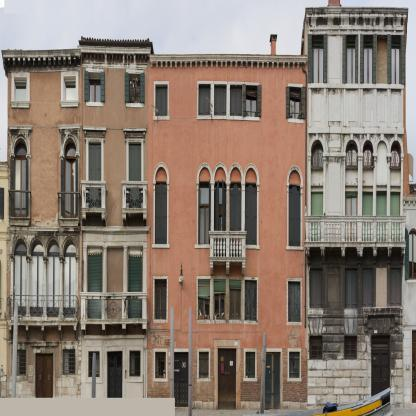Balcony: (304, 215, 407, 247), (80, 292, 148, 324), (9, 295, 79, 326), (208, 230, 247, 262), (121, 181, 148, 213), (8, 189, 32, 224), (57, 192, 81, 224)
Blind: (311, 192, 323, 242), (362, 191, 373, 241), (376, 191, 387, 241), (391, 192, 401, 242)
Building Outline: (1, 6, 408, 410)
Cornice: (362, 307, 401, 333), (8, 226, 81, 234), (80, 225, 150, 232), (82, 62, 148, 69), (83, 335, 145, 339), (9, 125, 33, 133), (58, 124, 81, 132), (30, 341, 58, 347), (83, 126, 107, 132), (9, 341, 30, 346), (123, 127, 147, 131), (59, 341, 79, 345)
Deco: (81, 180, 108, 220), (229, 167, 242, 182), (214, 167, 226, 182), (357, 247, 364, 265), (400, 247, 406, 265), (320, 247, 326, 265), (305, 247, 311, 265), (373, 247, 378, 265), (387, 247, 392, 265), (341, 247, 346, 265), (101, 212, 107, 227), (41, 325, 46, 340), (8, 325, 13, 339), (73, 326, 78, 340), (242, 262, 246, 276), (25, 326, 29, 340), (58, 325, 62, 339), (81, 324, 86, 335), (142, 324, 147, 335), (123, 213, 127, 226), (143, 213, 147, 226), (82, 213, 86, 226), (122, 324, 127, 334), (102, 324, 106, 336), (210, 261, 213, 275), (226, 262, 229, 275), (305, 205, 307, 216), (404, 206, 406, 216)
Door: (372, 336, 391, 410), (127, 245, 143, 319), (218, 348, 236, 410), (87, 245, 102, 319), (265, 352, 281, 410), (129, 141, 142, 208), (89, 141, 102, 208), (63, 253, 77, 314), (13, 252, 27, 313), (30, 253, 44, 314), (47, 253, 61, 314), (174, 352, 189, 407), (35, 353, 53, 398), (14, 156, 27, 218), (64, 156, 77, 218), (107, 351, 123, 397), (345, 192, 358, 242), (230, 204, 242, 257), (214, 204, 226, 257)
Facade: (1, 1, 408, 410)
Floor: (148, 148, 308, 268), (7, 227, 148, 330), (7, 124, 148, 227), (308, 126, 403, 252), (148, 268, 308, 339), (308, 252, 403, 327)
Floor Slab: (148, 262, 308, 268), (148, 333, 308, 339), (148, 142, 307, 147), (7, 227, 148, 232), (7, 325, 148, 330), (8, 119, 148, 124), (308, 247, 403, 253), (308, 121, 403, 126), (308, 322, 403, 327)
Ground Floor: (148, 339, 308, 410), (7, 330, 148, 398), (308, 327, 403, 409)
Molding: (150, 60, 306, 69), (81, 51, 148, 64), (7, 56, 77, 67)
Pillar: (25, 254, 32, 317), (58, 255, 65, 317), (42, 255, 49, 317), (10, 255, 14, 314), (75, 255, 79, 314)
Sill: (60, 100, 79, 108), (10, 101, 30, 108), (152, 244, 170, 248), (286, 246, 304, 250)
Top Floor: (148, 68, 308, 147), (308, 25, 403, 126), (7, 65, 148, 124)
Window: (288, 169, 301, 246), (198, 167, 211, 244), (245, 167, 257, 245), (155, 167, 167, 244), (311, 34, 325, 83), (390, 35, 402, 84), (346, 35, 358, 84), (363, 35, 374, 84), (244, 280, 257, 321), (288, 281, 301, 322), (345, 267, 357, 308), (198, 279, 210, 319), (214, 279, 226, 319), (229, 279, 241, 319), (155, 279, 167, 319), (310, 268, 322, 308), (362, 268, 373, 307), (390, 268, 401, 306), (214, 84, 227, 116), (129, 74, 142, 104), (88, 72, 101, 102), (156, 84, 168, 116), (199, 84, 211, 116), (230, 84, 242, 116), (290, 88, 302, 119), (246, 86, 258, 117), (311, 139, 324, 166), (345, 139, 358, 166), (344, 335, 357, 360), (310, 335, 323, 360), (14, 77, 27, 101), (14, 350, 26, 376), (63, 349, 75, 375), (289, 351, 300, 378), (64, 76, 76, 100), (89, 352, 100, 378), (130, 351, 141, 377), (155, 352, 166, 378), (362, 140, 373, 166), (391, 140, 401, 167), (230, 182, 242, 204), (214, 182, 226, 204), (199, 352, 209, 378), (246, 352, 255, 378), (63, 138, 77, 154), (14, 138, 27, 154), (62, 239, 76, 252), (13, 238, 27, 251), (30, 239, 44, 252), (46, 239, 60, 252)
